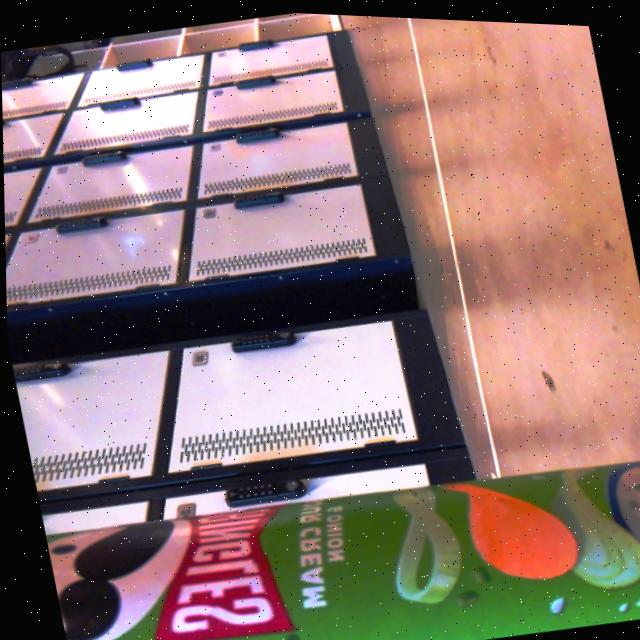greenpringles: (35, 396, 640, 640)
